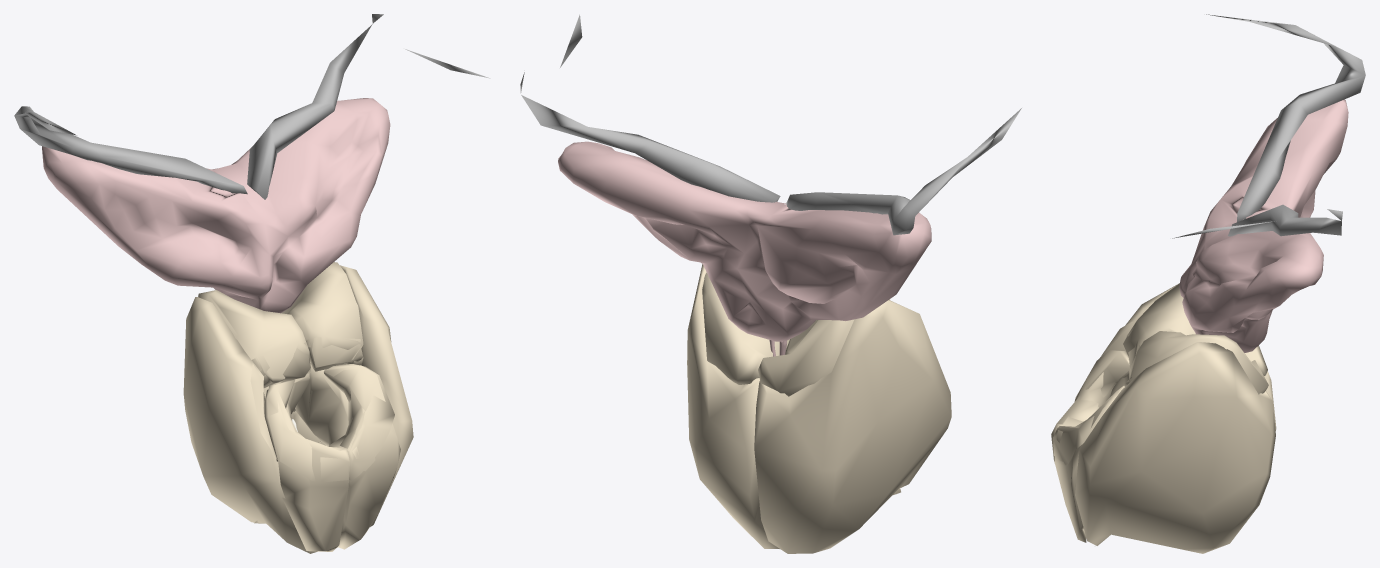
File: prostate.glb
The picture shows the model from 3 angles, left to right: view 1: azimuth 30°, elevation 25°; view 2: azimuth 150°, elevation 25°; view 3: azimuth 270°, elevation 25°; orthographic projection. The views are drawn at different scales.
Parts seen in each view (by area): view 1: VH_M_seminal_vesicle, VH_M_peripheral_zone_of_prostate_R, VH_M_base_of_prostate, VH_M_anterior_fibromuscular_stroma_R, VH_M_vas_deferens_L, VH_M_anterior_fibromuscular_stroma_L, VH_M_vas_deferens_R, VH_M_central_zone_of_prostate_L, VH_M_peripheral_zone_of_prostate_L, VH_M_central_zone_of_prostate_R, VH_M_transition_zone__of_prostate_L; view 2: VH_M_seminal_vesicle, VH_M_peripheral_zone_of_prostate_R, VH_M_peripheral_zone_of_prostate_L, VH_M_vas_deferens_R, VH_M_vas_deferens_L, VH_M_central_zone_of_prostate_R, VH_M_central_zone_of_prostate_L; view 3: VH_M_peripheral_zone_of_prostate_L, VH_M_seminal_vesicle, VH_M_vas_deferens_L, VH_M_central_zone_of_prostate_L, VH_M_vas_deferens_R, VH_M_base_of_prostate, VH_M_central_zone_of_prostate_R, VH_M_anterior_fibromuscular_stroma_R, VH_M_anterior_fibromuscular_stroma_L, VH_M_peripheral_zone_of_prostate_R.
Part boxes in pixels (<box>): VH_M_seminal_vesicle: <box>42,98,390,313</box>; VH_M_peripheral_zone_of_prostate_R: <box>183,297,317,553</box>; VH_M_base_of_prostate: <box>250,337,394,482</box>; VH_M_anterior_fibromuscular_stroma_R: <box>267,380,349,551</box>; VH_M_vas_deferens_L: <box>14,106,247,194</box>; VH_M_anterior_fibromuscular_stroma_L: <box>324,365,400,549</box>; VH_M_vas_deferens_R: <box>247,14,490,199</box>; VH_M_central_zone_of_prostate_L: <box>281,262,363,411</box>; VH_M_peripheral_zone_of_prostate_L: <box>291,265,413,547</box>; VH_M_central_zone_of_prostate_R: <box>198,290,310,387</box>; VH_M_transition_zone__of_prostate_L: <box>295,362,348,446</box>; VH_M_seminal_vesicle: <box>558,141,931,341</box>; VH_M_peripheral_zone_of_prostate_R: <box>754,300,951,553</box>; VH_M_peripheral_zone_of_prostate_L: <box>687,264,779,548</box>; VH_M_vas_deferens_R: <box>520,14,780,202</box>; VH_M_vas_deferens_L: <box>786,108,1021,235</box>; VH_M_central_zone_of_prostate_R: <box>758,299,889,396</box>; VH_M_central_zone_of_prostate_L: <box>702,272,789,384</box>; VH_M_peripheral_zone_of_prostate_L: <box>1075,342,1275,553</box>; VH_M_seminal_vesicle: <box>1179,99,1348,352</box>; VH_M_vas_deferens_L: <box>1206,14,1365,222</box>; VH_M_central_zone_of_prostate_L: <box>1124,331,1268,394</box>; VH_M_vas_deferens_R: <box>1172,204,1342,238</box>; VH_M_base_of_prostate: <box>1053,321,1140,464</box>; VH_M_central_zone_of_prostate_R: <box>1123,283,1267,375</box>; VH_M_anterior_fibromuscular_stroma_R: <box>1051,350,1129,461</box>; VH_M_anterior_fibromuscular_stroma_L: <box>1054,382,1127,542</box>; VH_M_peripheral_zone_of_prostate_R: <box>1099,283,1276,430</box>.
Bounding box in the file's own units: 0.0638 × 0.0647 × 0.0427.
